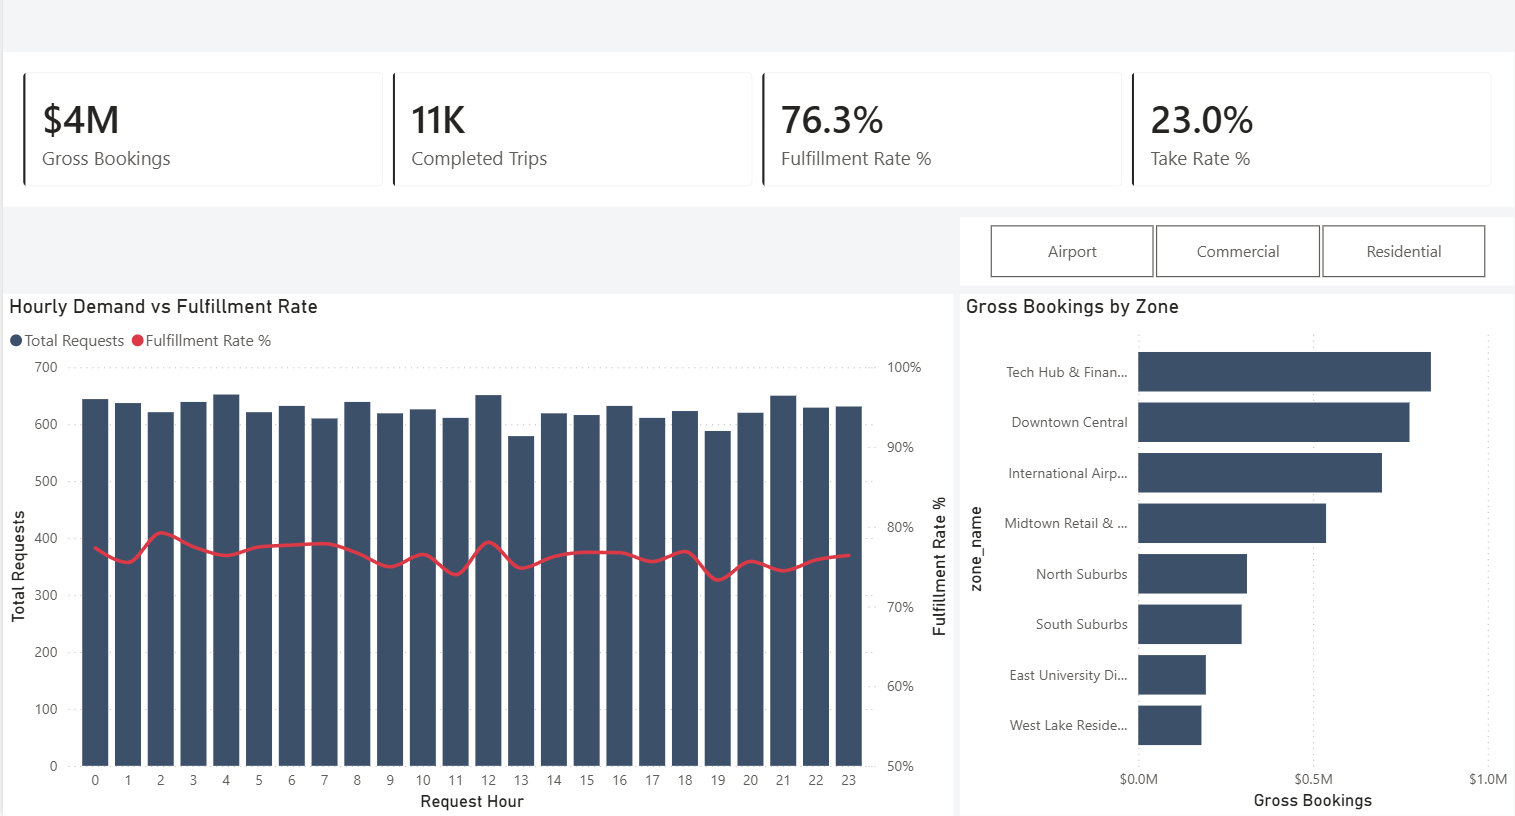

This screenshot's page, from the dashboard's own definition file:
{"tool":"powerbi","page":{"name":"Executive Overview","canvas":[1280,720],"ordinal":0},"visuals":[{"type":"cardVisual","fields":{"Data":["_Measures.Gross Bookings","_Measures.Completed Trips","_Measures.Fulfillment Rate %","_Measures.Take Rate %"]},"box":[0,72.2,1280,131],"z":0},{"type":"lineClusteredColumnComboChart","title":"Hourly Demand vs Fulfillment Rate","fields":{"Category":["fact_trips.Request Hour"],"Y":["fact_trips.Total Requests"],"Y2":["_Measures.Fulfillment Rate %"]},"box":[0,277,804.7,443],"z":1},{"type":"clusteredBarChart","title":"Gross Bookings by Zone","fields":{"Category":["dim_zones.zone_name"],"Y":["_Measures.Gross Bookings"]},"box":[811,277,469,442],"z":2},{"type":"slicer","fields":{"Values":["dim_zones.area_type"]},"box":[810.6,211.8,469.3,57.6],"z":3}]}

Visuals, with their boxes on the page's 1280x720 design canvas (x1, y1, x2, y2). These are canvas units, not pixel positions in the 1515x816 screenshot, which may show the page scaled, cropped or inside an application window:
cardVisual - _Measures.Gross Bookings x _Measures.Completed Trips: [0,72,1280,203]
"Hourly Demand vs Fulfillment Rate" lineClusteredColumnComboChart: [0,277,805,720]
"Gross Bookings by Zone" clusteredBarChart: [811,277,1280,719]
slicer - dim_zones.area_type: [811,212,1280,269]
